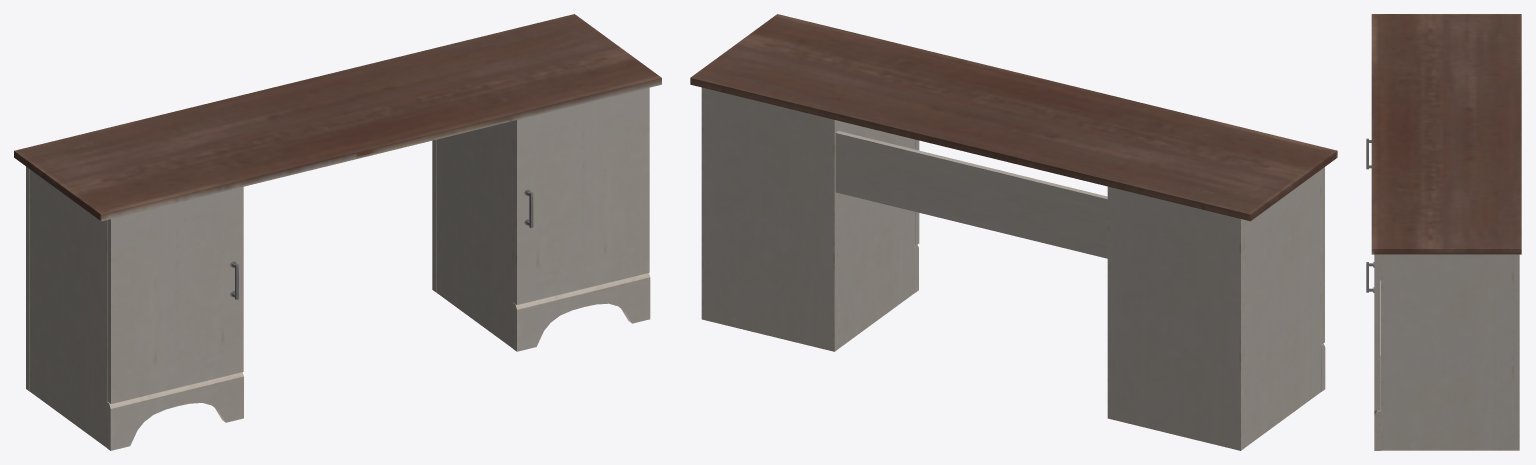
The model's file is WorkDesk_Solo.FBX.
3 views of the same model, side by side, from view 1: azimuth 30°, elevation 25°; view 2: azimuth 150°, elevation 25°; view 3: azimuth 270°, elevation 25° (orthographic). The views are drawn at different scales.
Parts seen in each view (by area): view 1: WorkDesk1, WorkDesk_Door_L, WorkDesk_Door_R; view 2: WorkDesk1, WorkDesk_Door_R; view 3: WorkDesk1, WorkDesk_Door_L.
Boxes of the visible parts, <box> form: WorkDesk1: <box>14,14,661,450</box>; WorkDesk_Door_L: <box>513,87,649,304</box>; WorkDesk_Door_R: <box>107,187,243,403</box>; WorkDesk1: <box>690,14,1337,450</box>; WorkDesk_Door_R: <box>1321,167,1324,344</box>; WorkDesk1: <box>1371,14,1521,450</box>; WorkDesk_Door_L: <box>1366,254,1380,410</box>.
Bounding box in the file's own units: 174 × 71.03 × 48.48.
